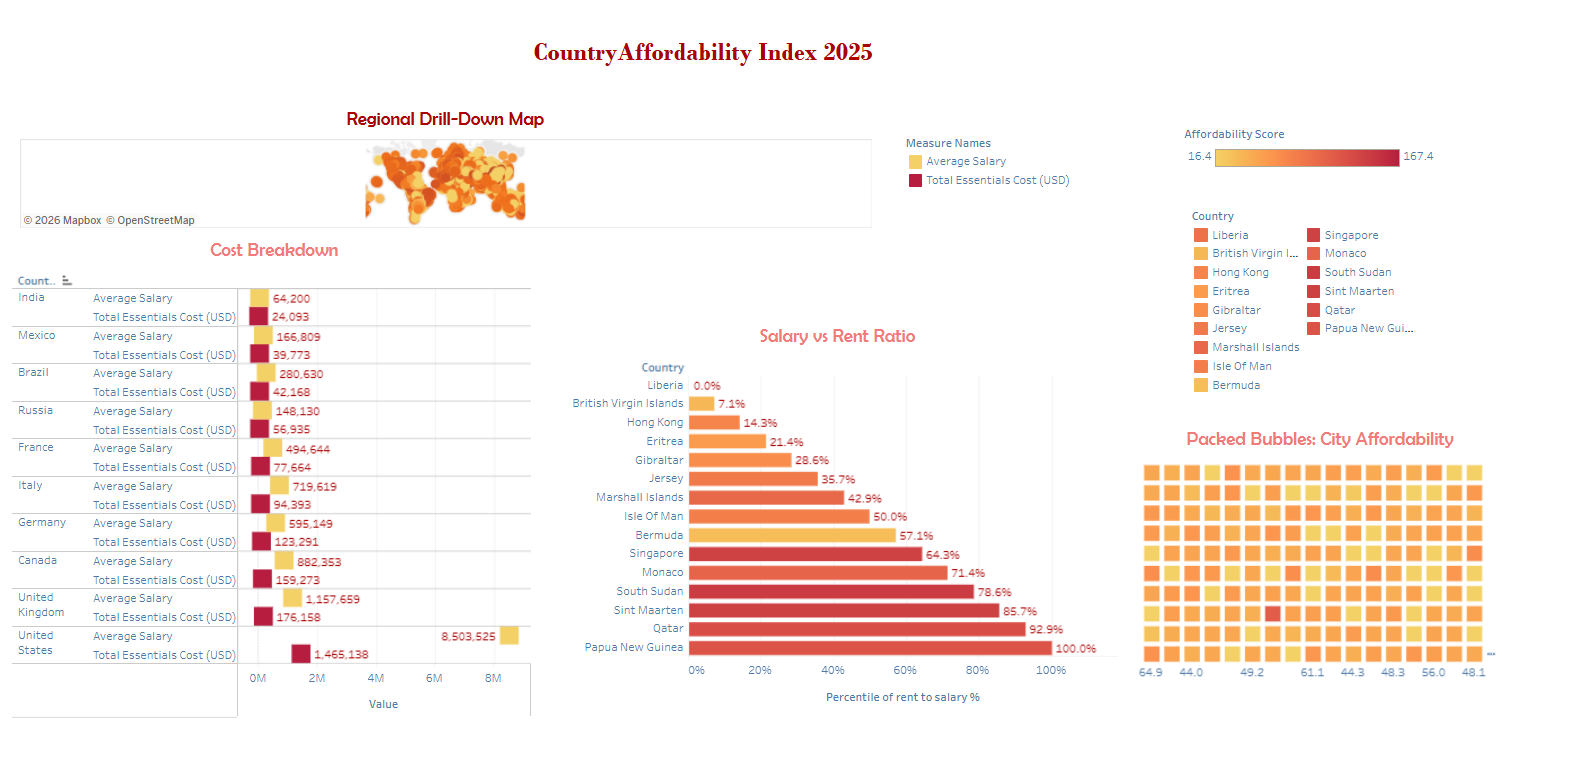

This screenshot's page, from the dashboard's own definition file:
{"tool":"tableau","page":{"name":"Country-Level Affordability Insights","canvas":[1600,900],"ordinal":1},"visuals":[{"type":"worksheet","title":"regional drill dowm map ","mark":"Automatic","box":[20,116,909,134]},{"type":"legend","title":" Salary vs Cost Gap","param":"[federated.01ods2h1wf629m1bzxo0s10bfq2g].[sum:affordability_score:qk]","box":[1262,141,271,74]},{"type":"legend","title":" Cost Breakdown","param":"[federated.01ods2h1wf629m1bzxo0s10bfq2g].[:Measure Names]","box":[965,150,255,76]},{"type":"legend","title":"Salary vs Rent Ratio","param":"[federated.01ods2h1wf629m1bzxo0s10bfq2g].[none:country:nk]","box":[1270,228,266,205]},{"type":"worksheet","title":" Cost Breakdown","mark":"Square","rows":["country"],"box":[12,255,581,538]},{"type":"worksheet","title":"Salary vs Rent Ratio","mark":"Automatic","rows":["country"],"box":[593,347,598,447]}]}

Visuals, with their boxes on the page's 1600x900 design canvas (x1, y1, x2, y2). These are canvas units, not pixel positions in the 1580x766 screenshot, which may show the page scaled, cropped or inside an application window:
"regional drill dowm map " worksheet: <bbox>20, 116, 929, 250</bbox>
" Salary vs Cost Gap" legend: <bbox>1262, 141, 1533, 215</bbox>
" Cost Breakdown" legend: <bbox>965, 150, 1220, 226</bbox>
"Salary vs Rent Ratio" legend: <bbox>1270, 228, 1536, 433</bbox>
" Cost Breakdown" worksheet (Square marks): <bbox>12, 255, 593, 793</bbox>
"Salary vs Rent Ratio" worksheet: <bbox>593, 347, 1191, 794</bbox>
